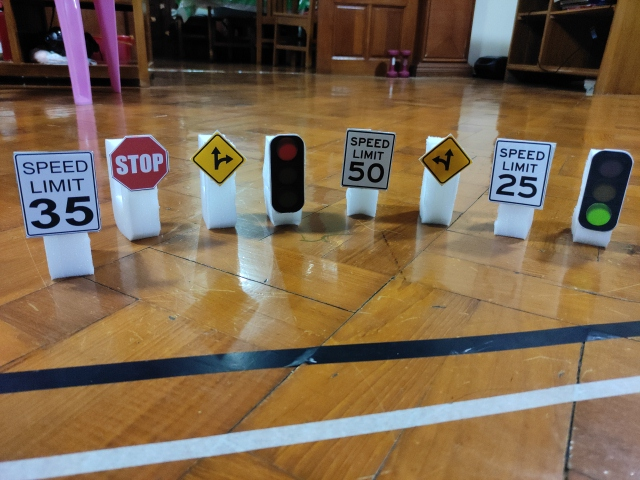Green Traffic Light: (578, 150, 634, 232)
Red Traffic Light: (269, 132, 306, 214)
Speed Limit 25: (489, 140, 553, 208)
Speed Limit 35: (13, 149, 101, 238)
Speed Limit 50: (341, 128, 396, 192)
Stop Sign: (109, 134, 171, 192)
Straight Or Left Sign: (420, 135, 472, 185)
Straight Or Right Sign: (191, 131, 247, 185)
